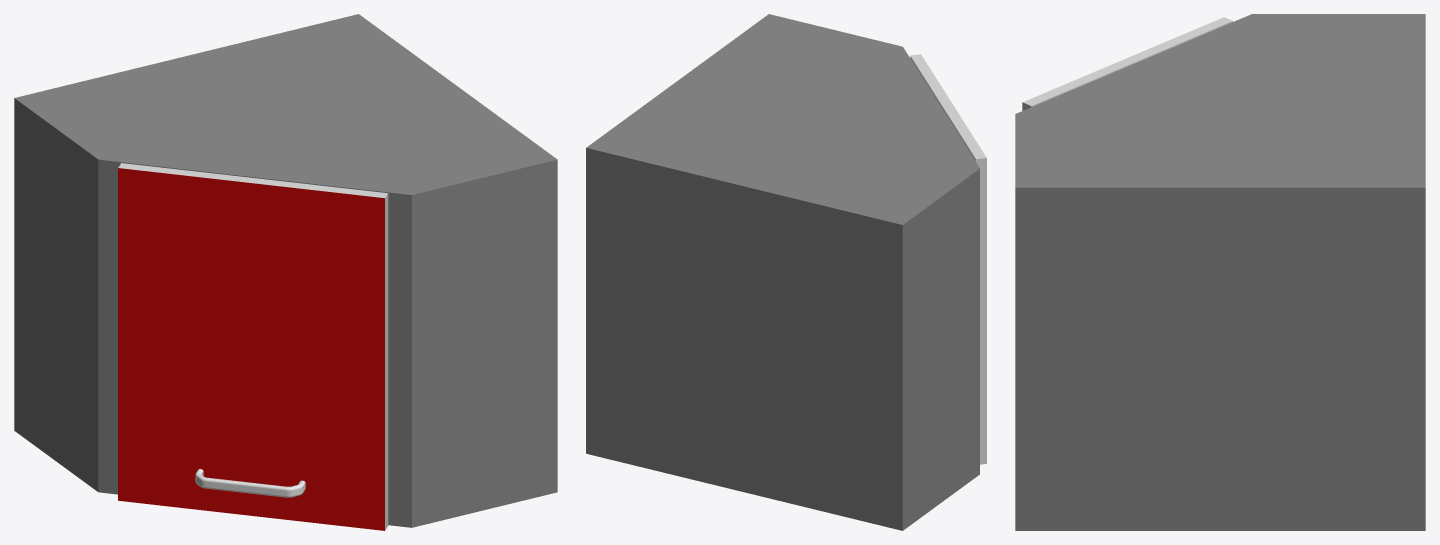
File: Upper_corner_cabinet.glb
The picture shows the model from 3 angles, left to right: view 1: azimuth 30°, elevation 25°; view 2: azimuth 150°, elevation 25°; view 3: azimuth 270°, elevation 25°; orthographic projection. The views are drawn at different scales.
Visible parts, largest first — view 1: Object_3, Object_2, Object_5, Object_4; view 2: Object_3, Object_5; view 3: Object_3, Object_5.
Boxes of the visible parts, left/top/right/bottom form: Object_3: left=14, top=14, right=557, bottom=527; Object_2: left=118, top=168, right=384, bottom=530; Object_5: left=118, top=163, right=388, bottom=530; Object_4: left=195, top=469, right=305, bottom=497; Object_3: left=586, top=14, right=979, bottom=530; Object_5: left=910, top=54, right=986, bottom=464; Object_3: left=1015, top=14, right=1425, bottom=530; Object_5: left=1022, top=17, right=1232, bottom=110.
Size of the model in its own units: 65 by 60 by 65.
